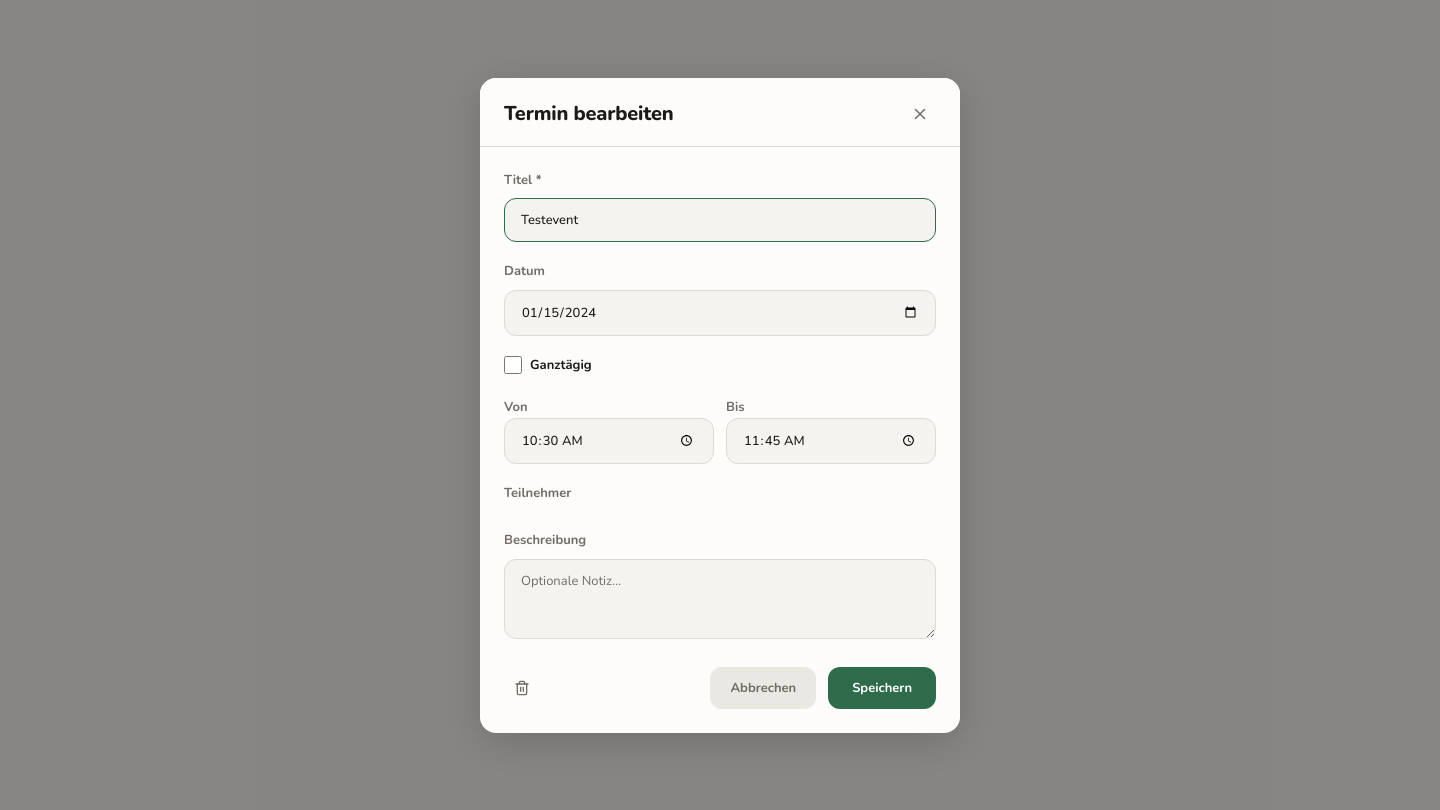
Test case: EventFormModal — Termin löschen › fragt nach Bestätigung, bevor gelöscht wird
The width and height of the screenshot is (1440, 810).
Click the button named "Termin löschen" at (522, 688), box [504, 670, 540, 706]
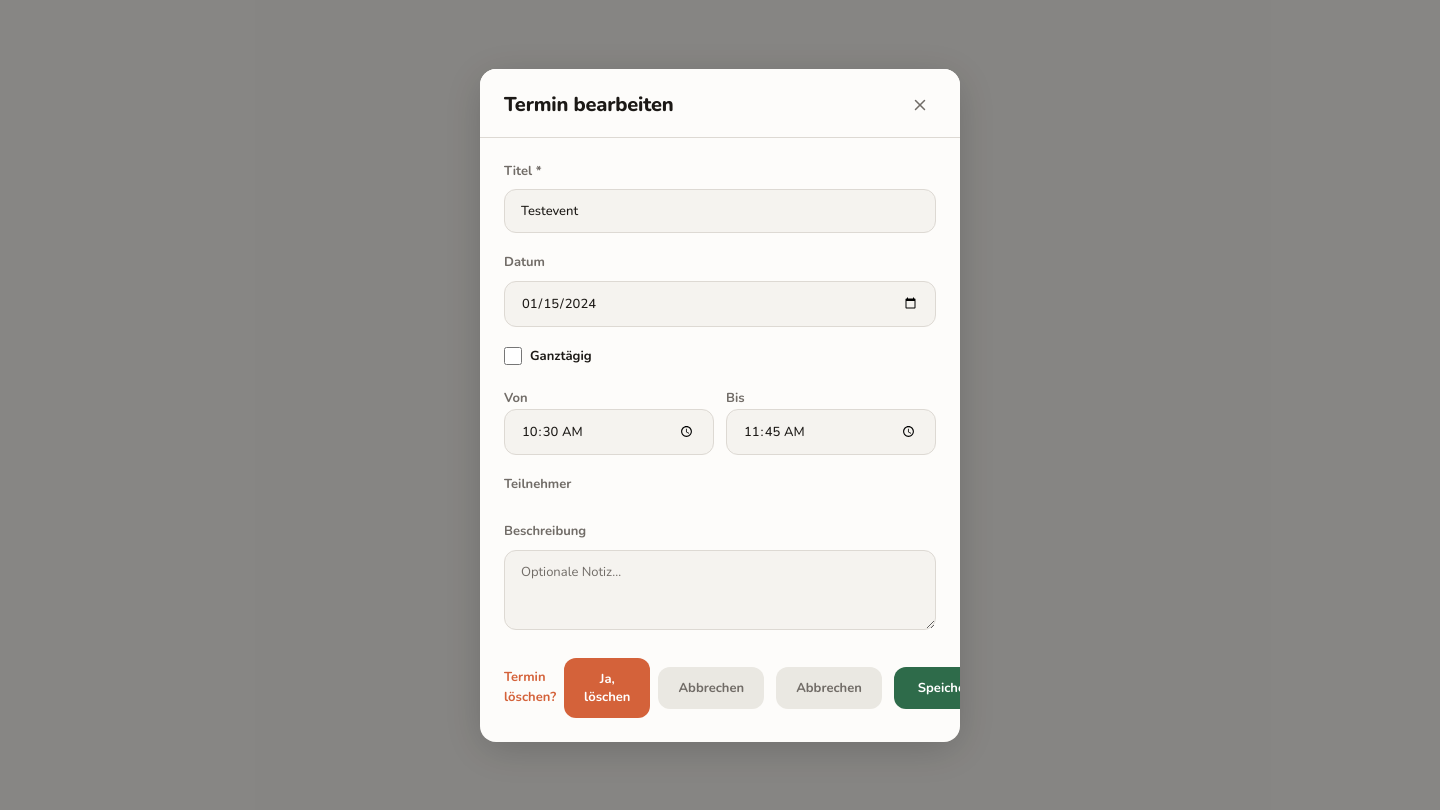
Result: the text "Termin löschen?" is shown at [504, 668, 556, 707]
